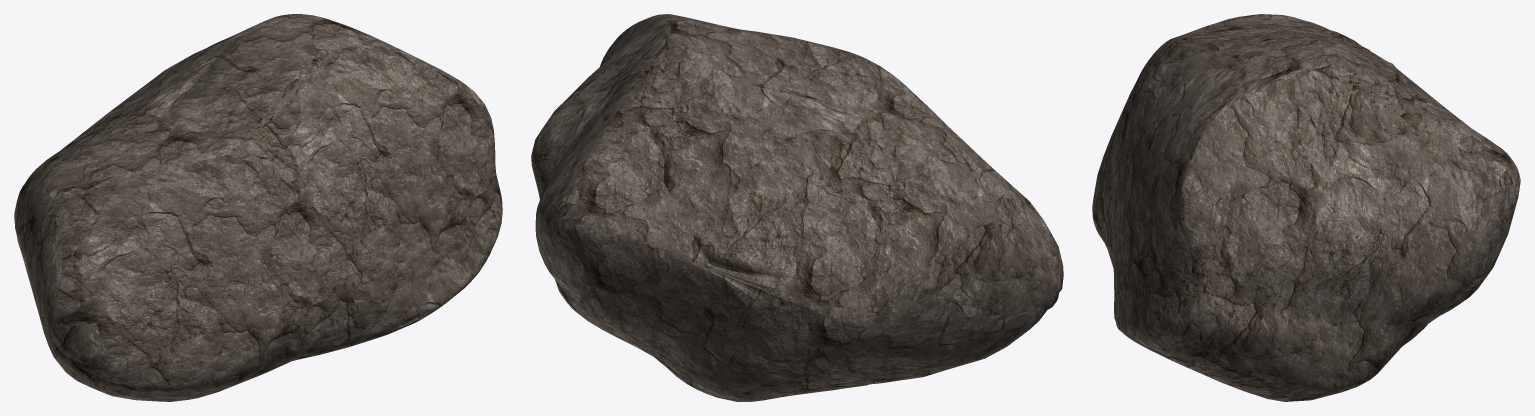
File: cascajo_rock_6.glb
3 views of the same model, side by side, from view 1: azimuth 30°, elevation 25°; view 2: azimuth 150°, elevation 25°; view 3: azimuth 270°, elevation 25° (orthographic). The views are drawn at different scales.
Parts seen in each view (by area): view 1: rock_6; view 2: rock_6; view 3: rock_6.
Boxes of the visible parts, left/top/right/bottom form: rock_6: left=14, top=14, right=502, bottom=401; rock_6: left=531, top=14, right=1063, bottom=401; rock_6: left=1092, top=14, right=1520, bottom=401.
Bounding box in the file's own units: 1 × 0.6532 × 0.7681.
1 material, 1 textured.
